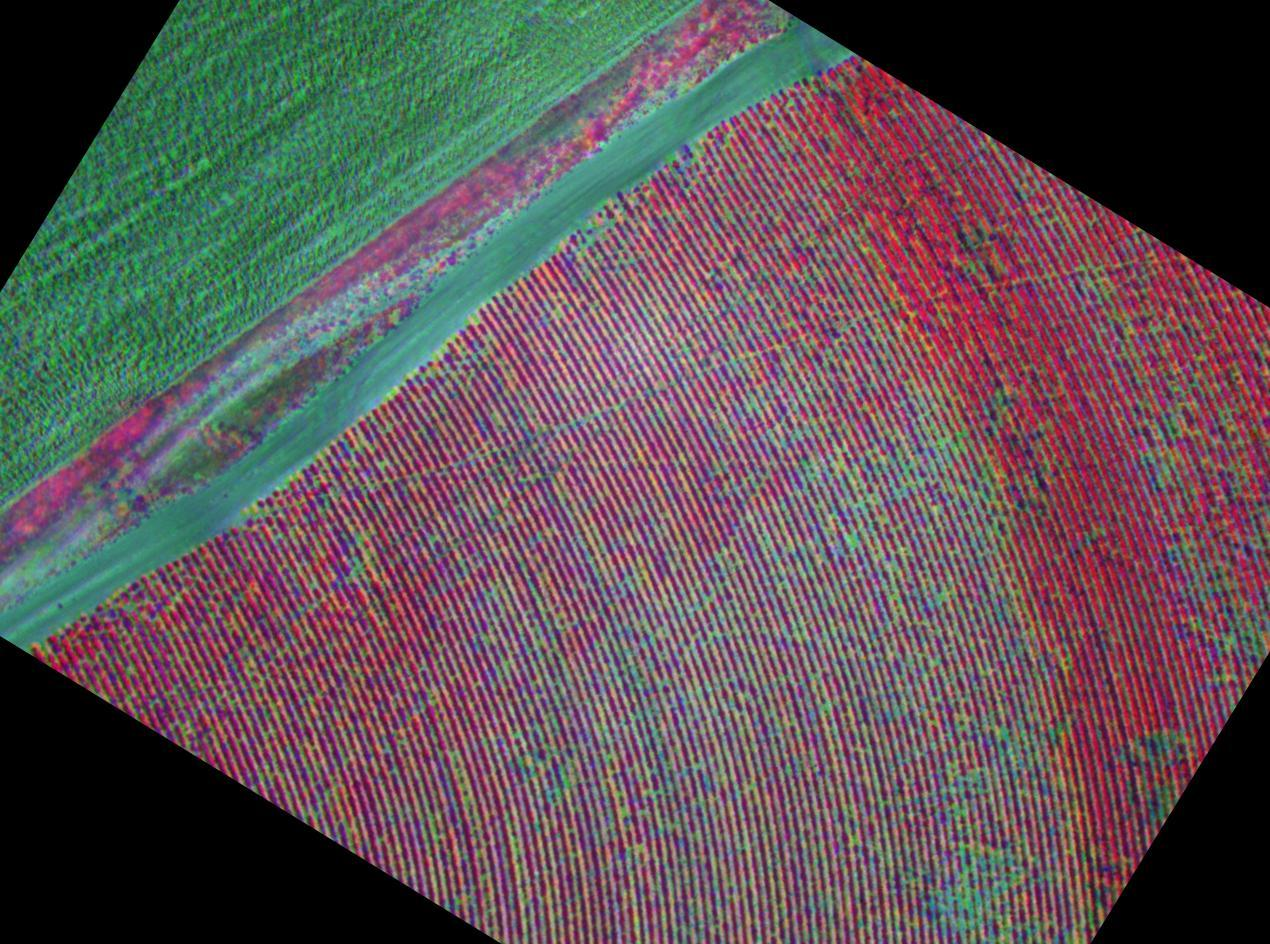dc: (846, 538, 857, 545), (960, 900, 970, 907), (378, 461, 387, 467)
